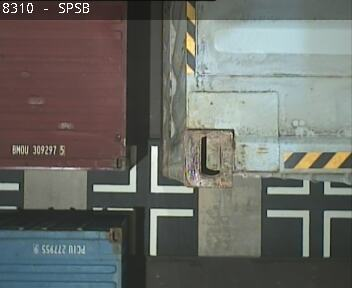groundmarker_1: (90, 205, 192, 254), (92, 146, 195, 192), (266, 210, 352, 258)
